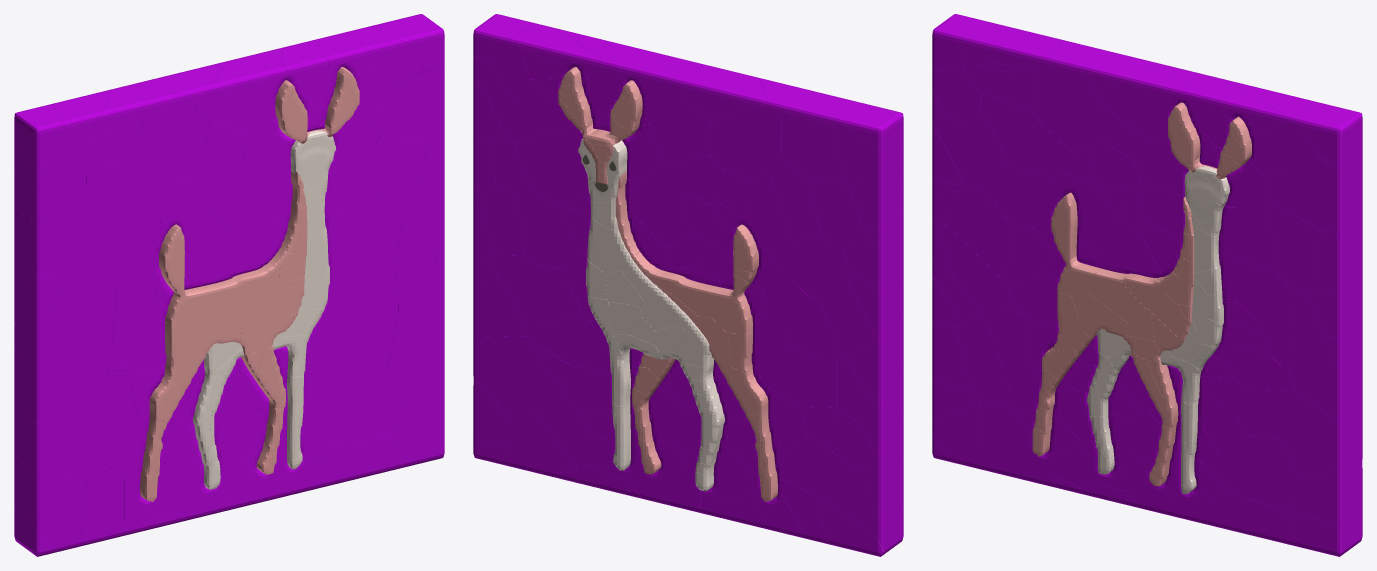
Rendered from Deer.fbx.
3 renders of one model, left to right at view 1: azimuth 30°, elevation 25°; view 2: azimuth 150°, elevation 25°; view 3: azimuth 330°, elevation 25°, orthographic.
Parts seen in each view (by area): view 1: Border_cell.029, Border_cell.085, Border_cell.103, Border_cell.151, Border_cell.135, Border_cell.089, Border_cell.152, Border_cell.091, Border_cell.167, Border_cell.094, Border_cell.038, Border_cell.119 (+107 smaller); view 2: Border_cell.130, Border_cell.039, Border_cell.012, Border_cell.118, Border_cell.150, Border_cell.177, Border_cell.011, Border_cell.078, Border_cell.158, Border_cell.031, Border_cell.072, Border_cell.163 (+113 smaller); view 3: Border_cell.029, Border_cell.085, Border_cell.135, Border_cell.089, Border_cell.103, Border_cell.151, Border_cell.152, Border_cell.091, Border_cell.167, Border_cell.148, Border_cell.094, Border_cell.051 (+105 smaller).
Part boxes in pixels (x1,y1,x2,y2): Border_cell.029: (127, 85, 208, 183); Border_cell.085: (321, 369, 404, 444); Border_cell.103: (207, 62, 286, 133); Border_cell.151: (51, 264, 116, 346); Border_cell.135: (387, 312, 444, 398); Border_cell.089: (380, 69, 444, 140); Border_cell.152: (376, 136, 426, 211); Border_cell.091: (61, 387, 115, 478); Border_cell.167: (324, 143, 378, 210); Border_cell.094: (79, 468, 124, 546); Border_cell.038: (14, 415, 76, 478); Border_cell.119: (46, 317, 114, 388); Border_cell.130: (473, 336, 548, 422); Border_cell.039: (709, 99, 782, 178); Border_cell.012: (513, 126, 590, 203); Border_cell.118: (516, 189, 579, 269); Border_cell.150: (781, 114, 842, 181); Border_cell.177: (680, 70, 767, 121); Border_cell.011: (774, 238, 848, 300); Border_cell.078: (635, 165, 688, 247); Border_cell.158: (649, 98, 711, 164); Border_cell.031: (507, 409, 578, 472); Border_cell.072: (808, 178, 864, 248); Border_cell.163: (769, 159, 822, 240); Border_cell.029: (1032, 41, 1102, 152); Border_cell.085: (1215, 434, 1298, 508); Border_cell.135: (1282, 389, 1360, 478); Border_cell.089: (1274, 160, 1356, 231); Border_cell.103: (1102, 67, 1189, 139); Border_cell.151: (945, 185, 1010, 283); Border_cell.152: (1271, 203, 1321, 292); Border_cell.091: (956, 313, 1009, 403); Border_cell.167: (1218, 206, 1273, 268); Border_cell.148: (1297, 104, 1362, 166); Border_cell.094: (974, 403, 1019, 478); Border_cell.051: (1293, 357, 1356, 422).
Size of the model in its own units: 10 by 10 by 1.47.
